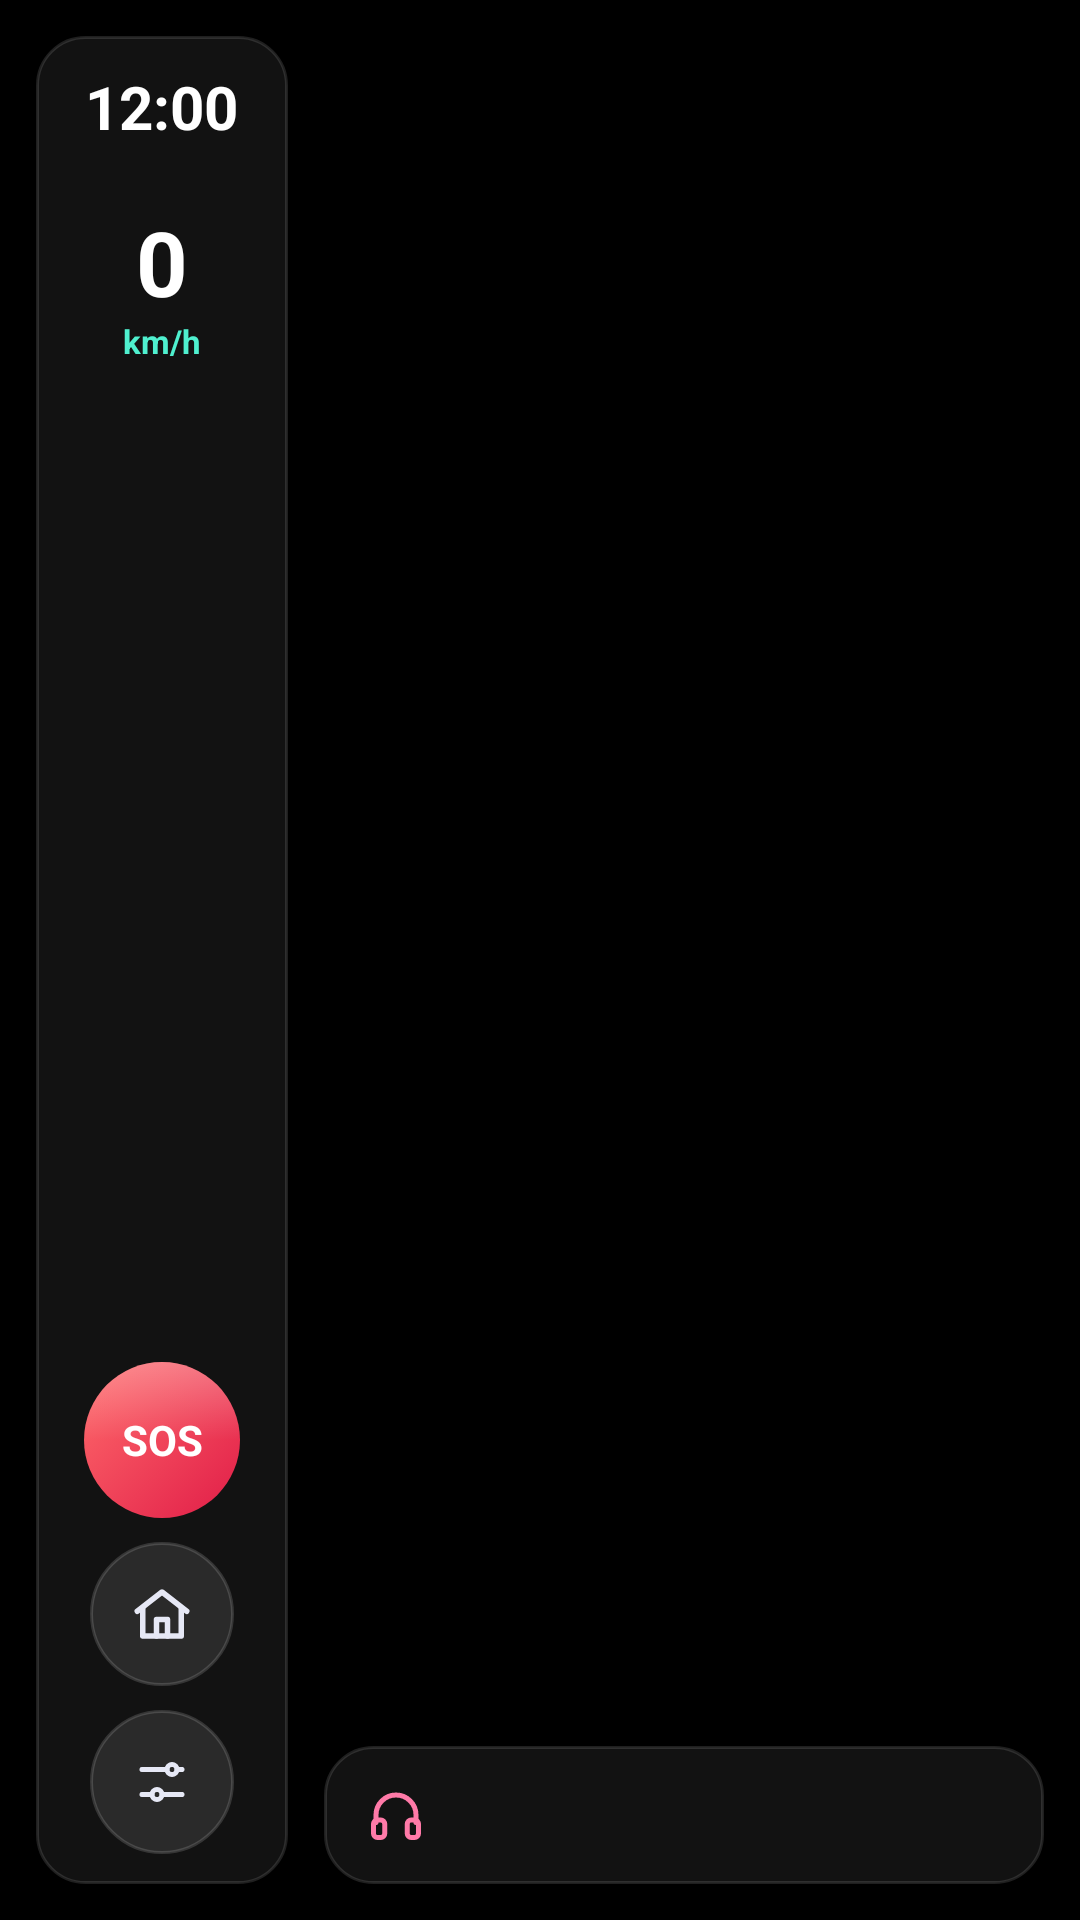

Screen size 1080×1920. Icon name, then its box in pixels as detection(x1, y1, x2, y2):
music: detection(371, 1792, 421, 1840)
Phone home screen: detection(90, 1542, 234, 1686)
Settings: detection(90, 1710, 234, 1854)
